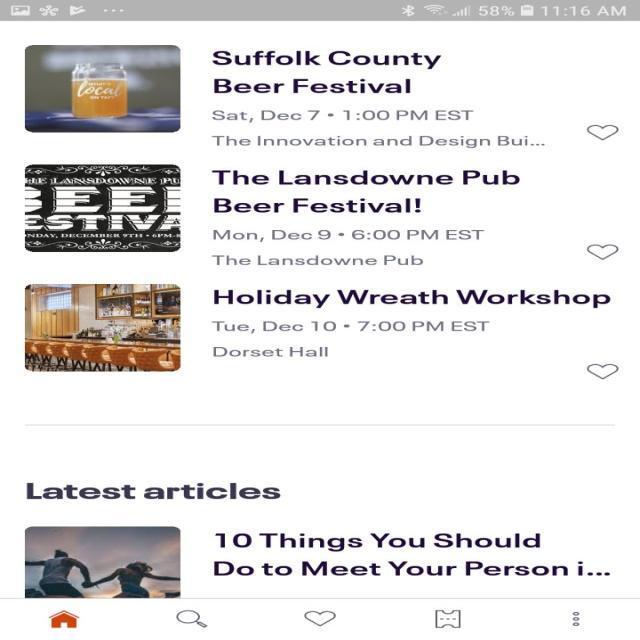Icon: (585, 243, 618, 260), (586, 124, 618, 141), (176, 610, 207, 627), (304, 610, 336, 626), (586, 363, 618, 379), (49, 610, 79, 627), (434, 609, 460, 628), (572, 611, 580, 626)
Image: (25, 283, 182, 372), (24, 44, 180, 133), (25, 164, 182, 252), (23, 526, 180, 598)
Text: (215, 532, 610, 576), (212, 170, 520, 213), (212, 51, 442, 93), (212, 289, 610, 308), (211, 135, 545, 148), (26, 482, 281, 499), (212, 321, 489, 334), (212, 230, 484, 242), (212, 110, 474, 122), (210, 255, 424, 266), (212, 347, 328, 357)
